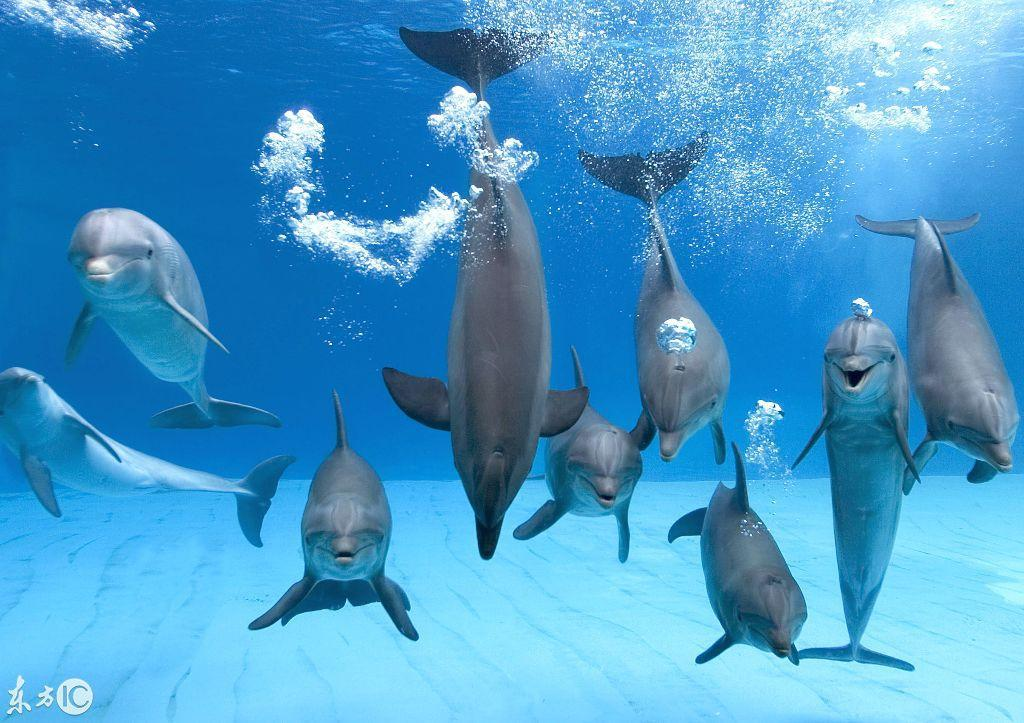fish: (383, 26, 580, 559), (1, 359, 290, 555), (55, 204, 292, 433), (790, 293, 922, 675), (246, 385, 434, 642), (853, 210, 1024, 486), (622, 132, 734, 461), (665, 442, 818, 673), (509, 362, 646, 567)
